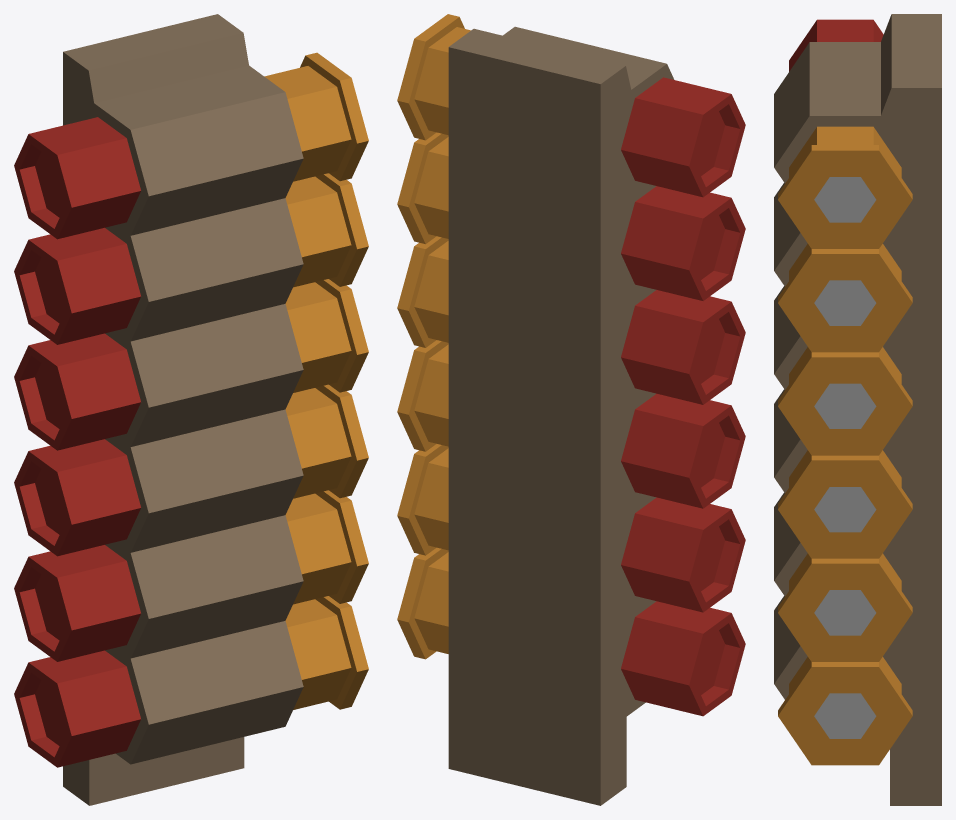
The model's file is Bullets_02_SM.FBX.
The picture shows the model from 3 angles, left to right: view 1: azimuth 30°, elevation 25°; view 2: azimuth 150°, elevation 25°; view 3: azimuth 270°, elevation 25°; orthographic projection. The views are drawn at different scales.
Parts seen in each view (by area): view 1: Bullets_02_SM; view 2: Bullets_02_SM; view 3: Bullets_02_SM.
Boxes of the visible parts, x1,y1,x2,y2 form: Bullets_02_SM: [14, 14, 368, 805]; Bullets_02_SM: [397, 14, 745, 805]; Bullets_02_SM: [774, 14, 941, 805].
Size of what is drawn, in the model's own units: 4.62 by 2.36 by 11.13.
